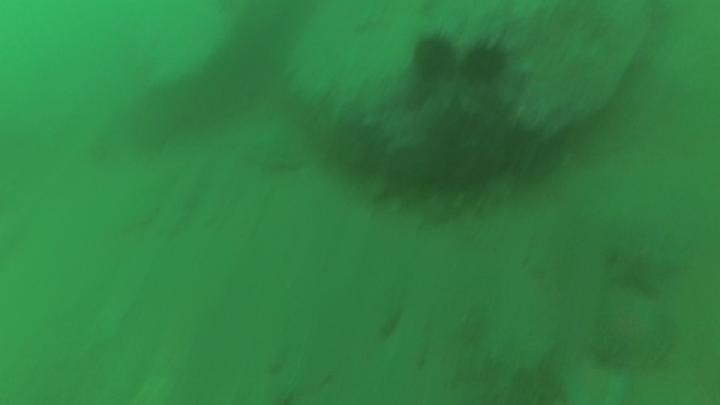echinus: (322, 115, 393, 185), (410, 31, 459, 81), (460, 38, 511, 86)
starfish: (588, 290, 677, 372), (602, 231, 689, 299), (555, 354, 637, 405)
